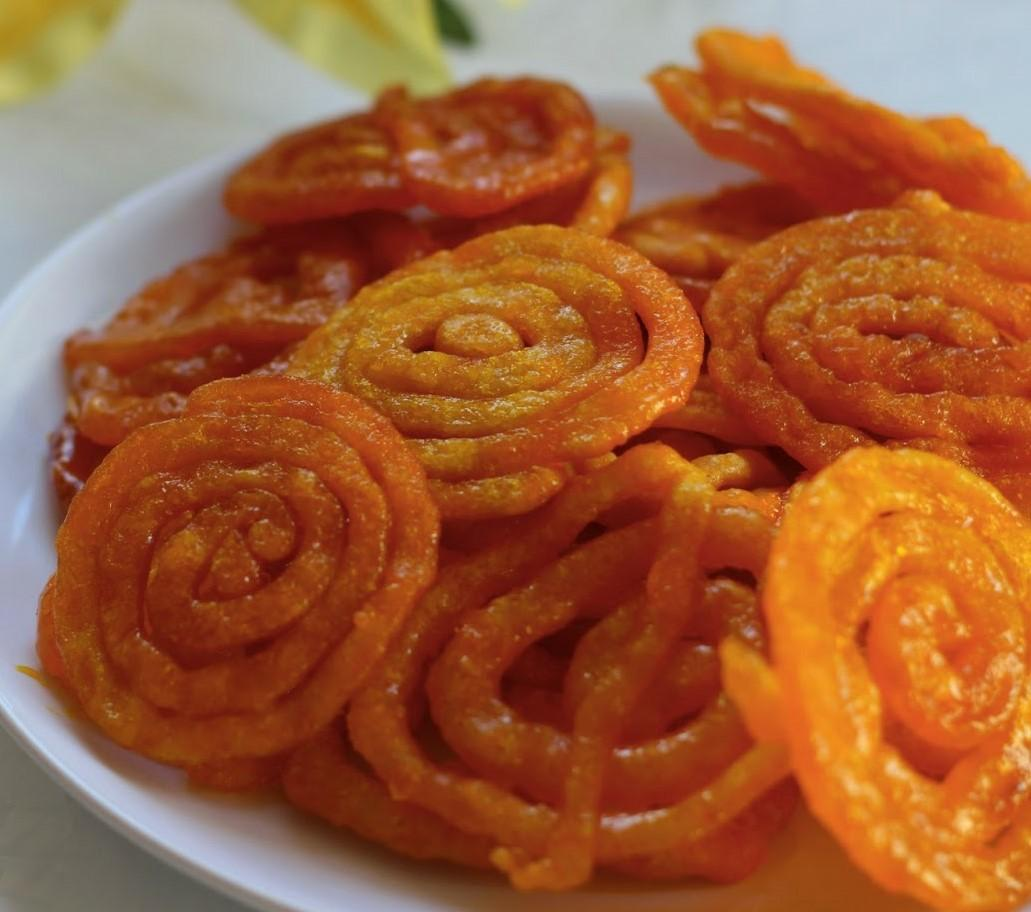Jalebi: (33, 22, 1031, 912)
